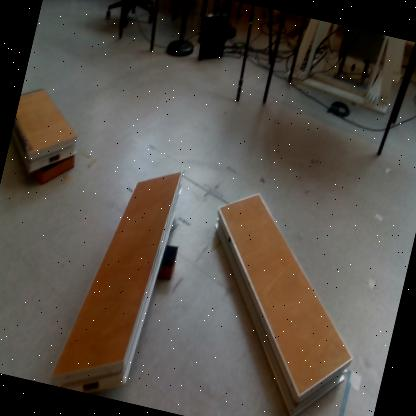Stairs: (50, 168, 188, 397), (214, 191, 354, 416), (12, 88, 77, 175)
